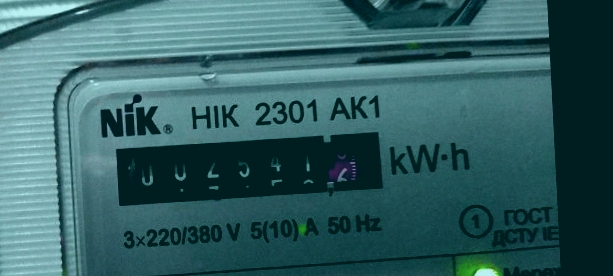0: (169, 149, 189, 183), (138, 157, 156, 187)
1: (296, 140, 314, 174)
2: (200, 147, 222, 182)
4: (265, 142, 284, 174)
5: (234, 147, 251, 180)
6: (333, 162, 350, 184)
screen: (100, 115, 404, 221)
